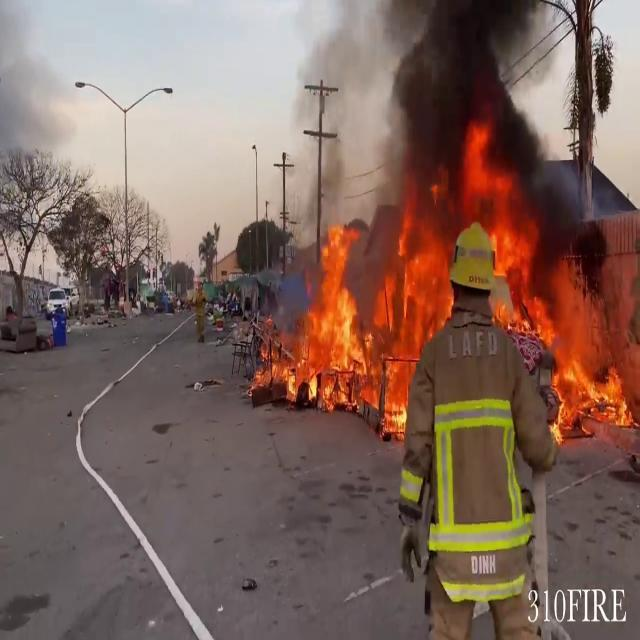Fire: (266, 134, 640, 434)
Smoke: (363, 0, 570, 201)
